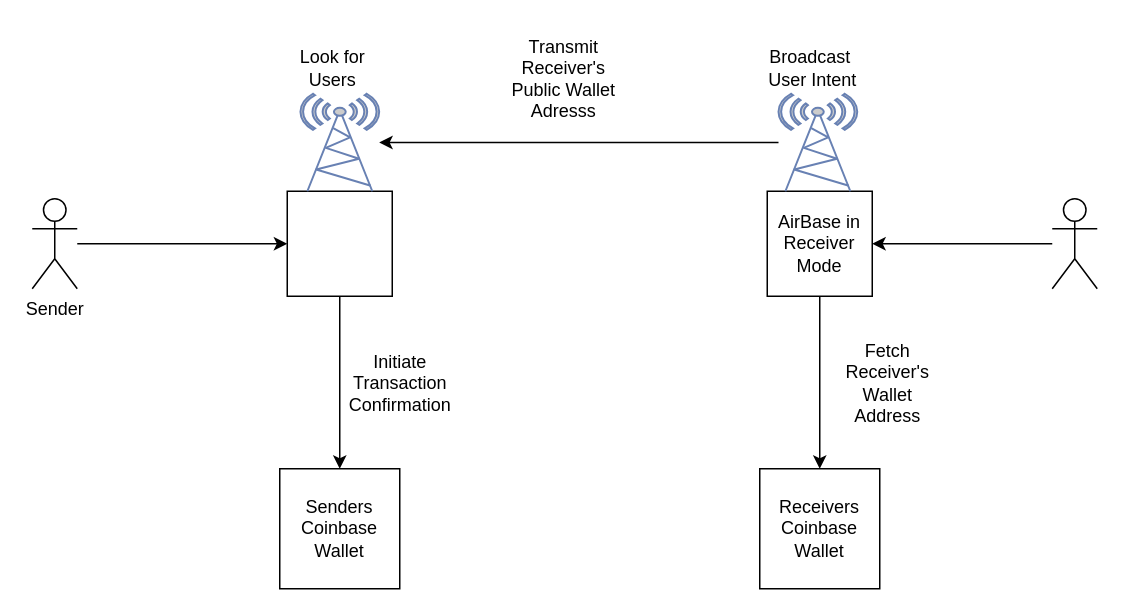
Image size: 1136x615. Some labels were removed from this diagram. Each missing label, with the box of its shape:
AirBase in Sender Mode: (286, 190, 392, 296)
Receiver: (1051, 197, 1097, 289)
